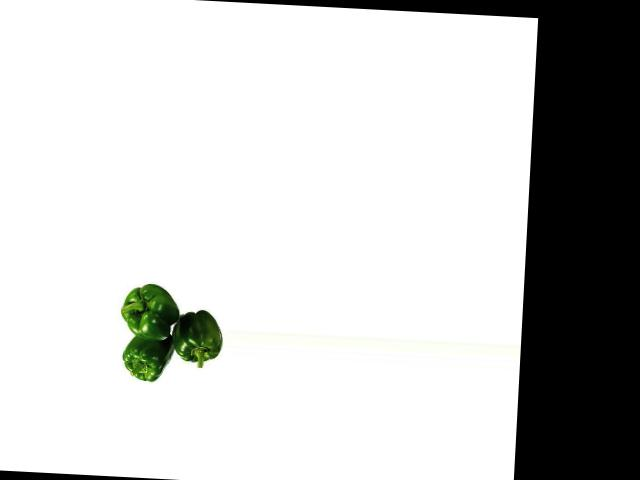bell_pepper: (115, 277, 180, 343)
